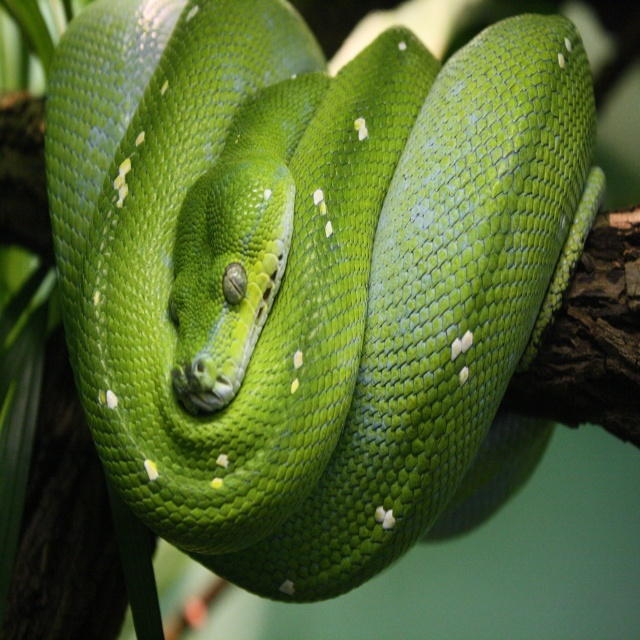Snake: (43, 0, 607, 603)
